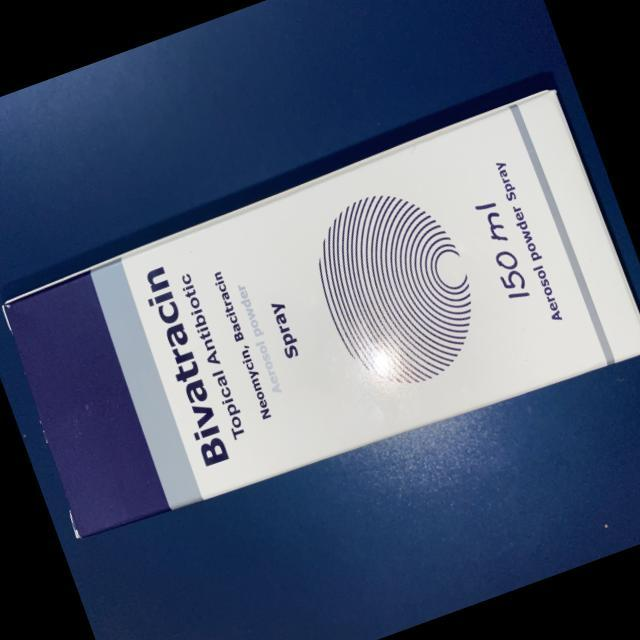Medicine Name: (129, 259, 242, 474)
